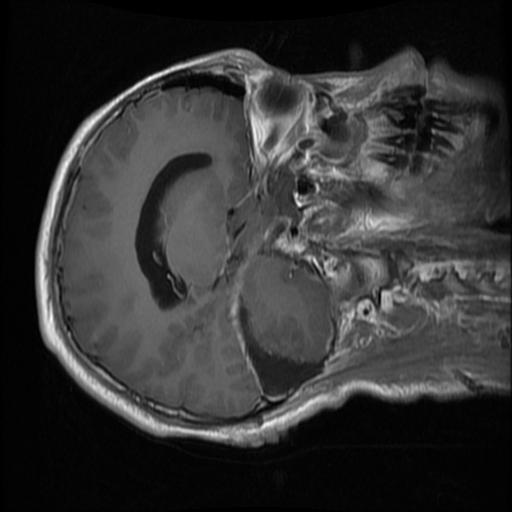glioma: (239, 294, 323, 397)
